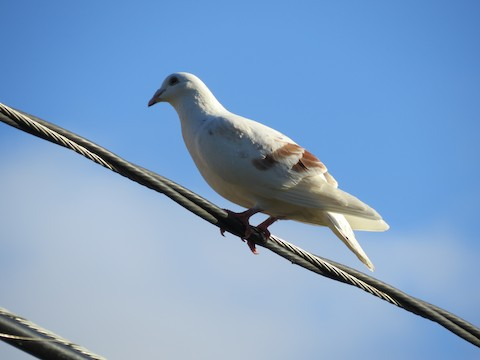pigeon: (145, 67, 395, 276)
